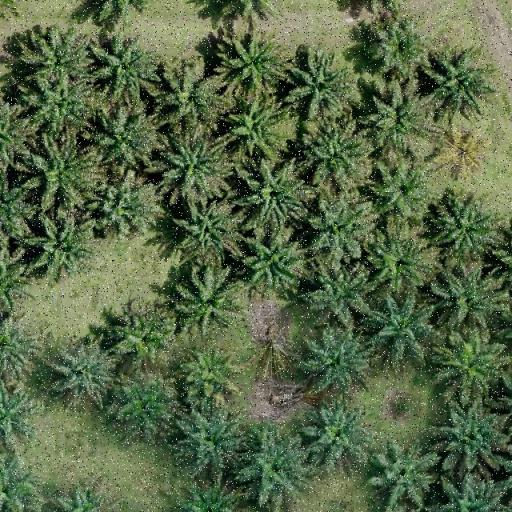Ganoderma: (444, 129, 484, 171), (256, 332, 293, 364)
